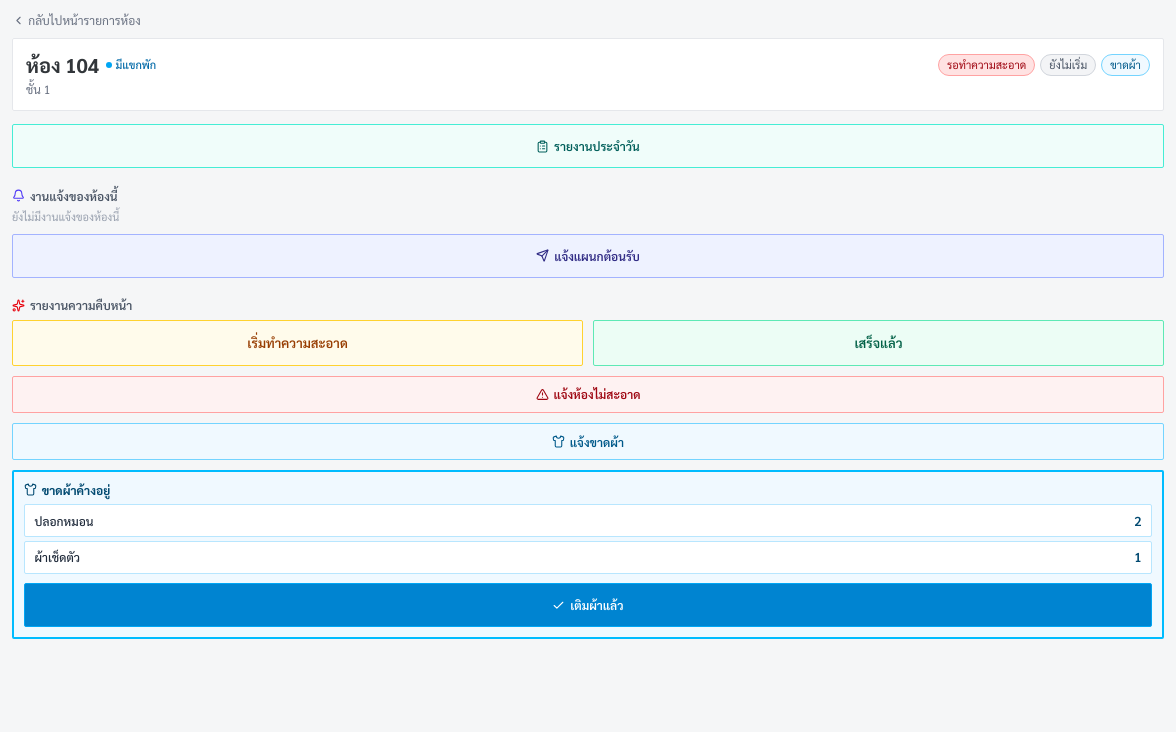
it: ขาดผ้าค้างอยู่ card and เติมผ้าแล้ว › ยกเลิก closes the confirm and files nothing
Expected: the heading "ห้อง 104" is shown, [26,52,99,78]
Click the button "เติมผ้าแล้ว" at point(588, 605), box [24,583,1152,627]
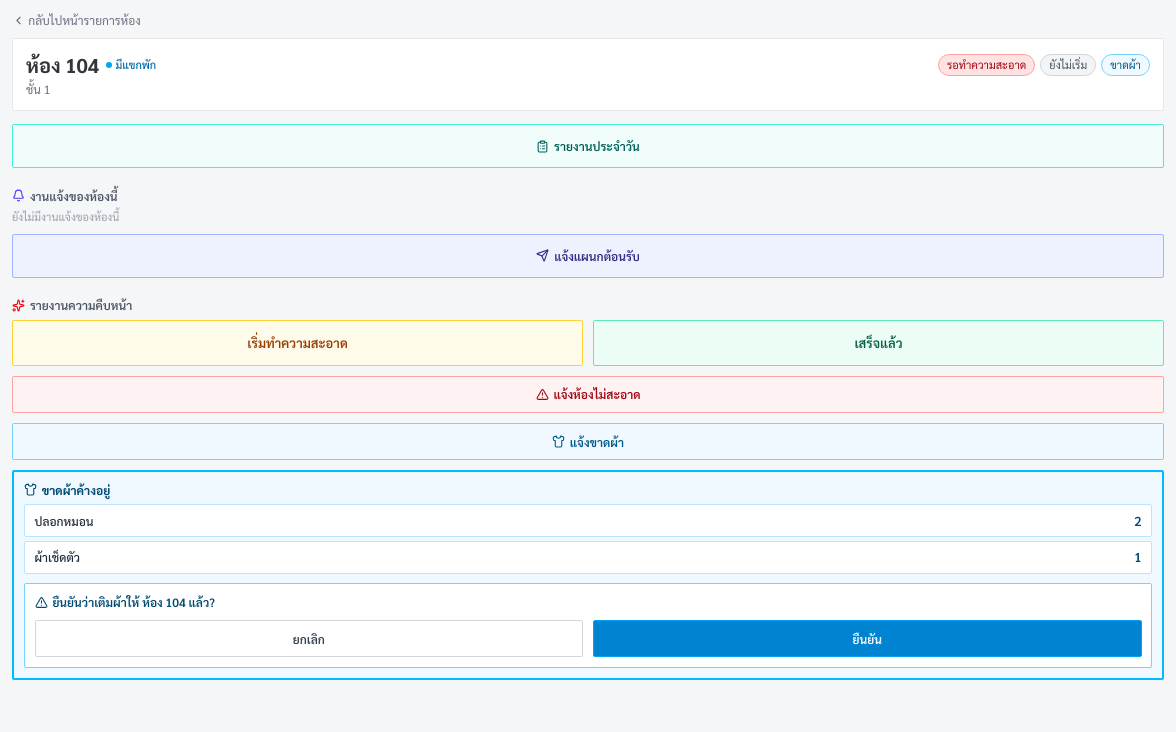
Expected: the text "ยืนยันว่าเติมผ้าให้ ห้อง 104 แล้ว?" is shown, [52,594,215,610]
Click the button "ยกเลิก" at point(309, 639), box [34,620,583,657]
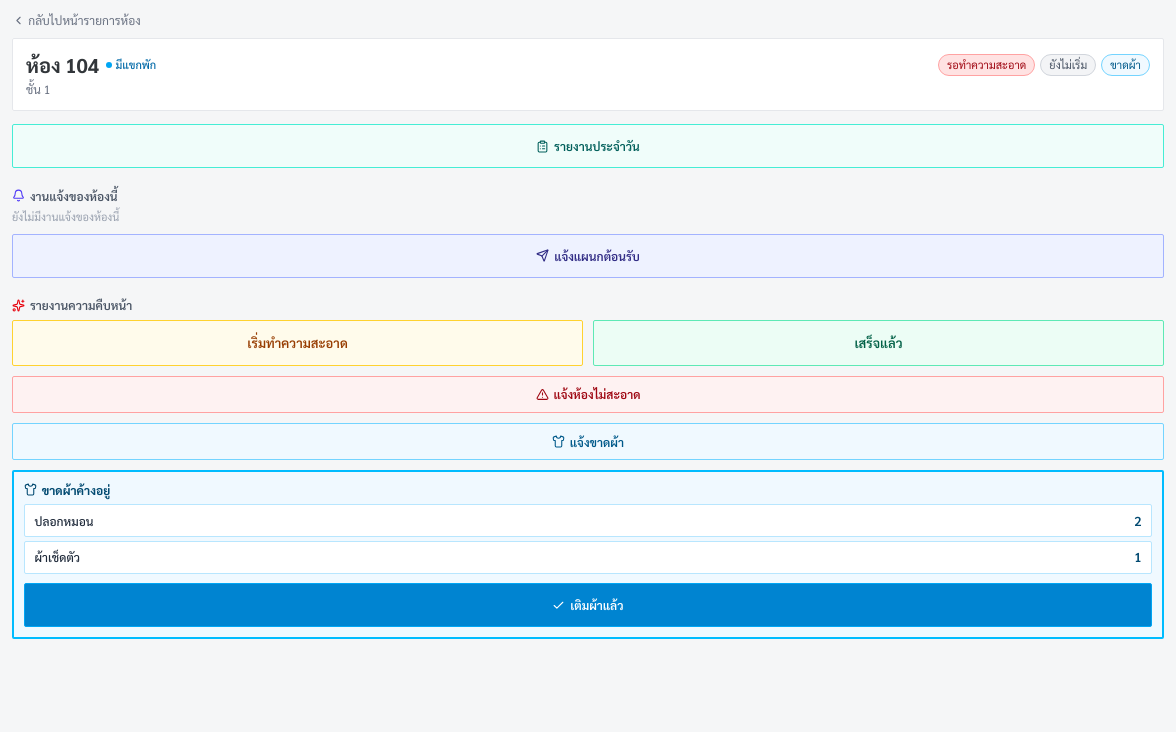
Expected: the element with test id "hk-linen-open-card" is shown, [12,470,1164,639]
Expected: the text "ยืนยันว่าเติมผ้าให้ ห้อง 104 แล้ว?" is gone
